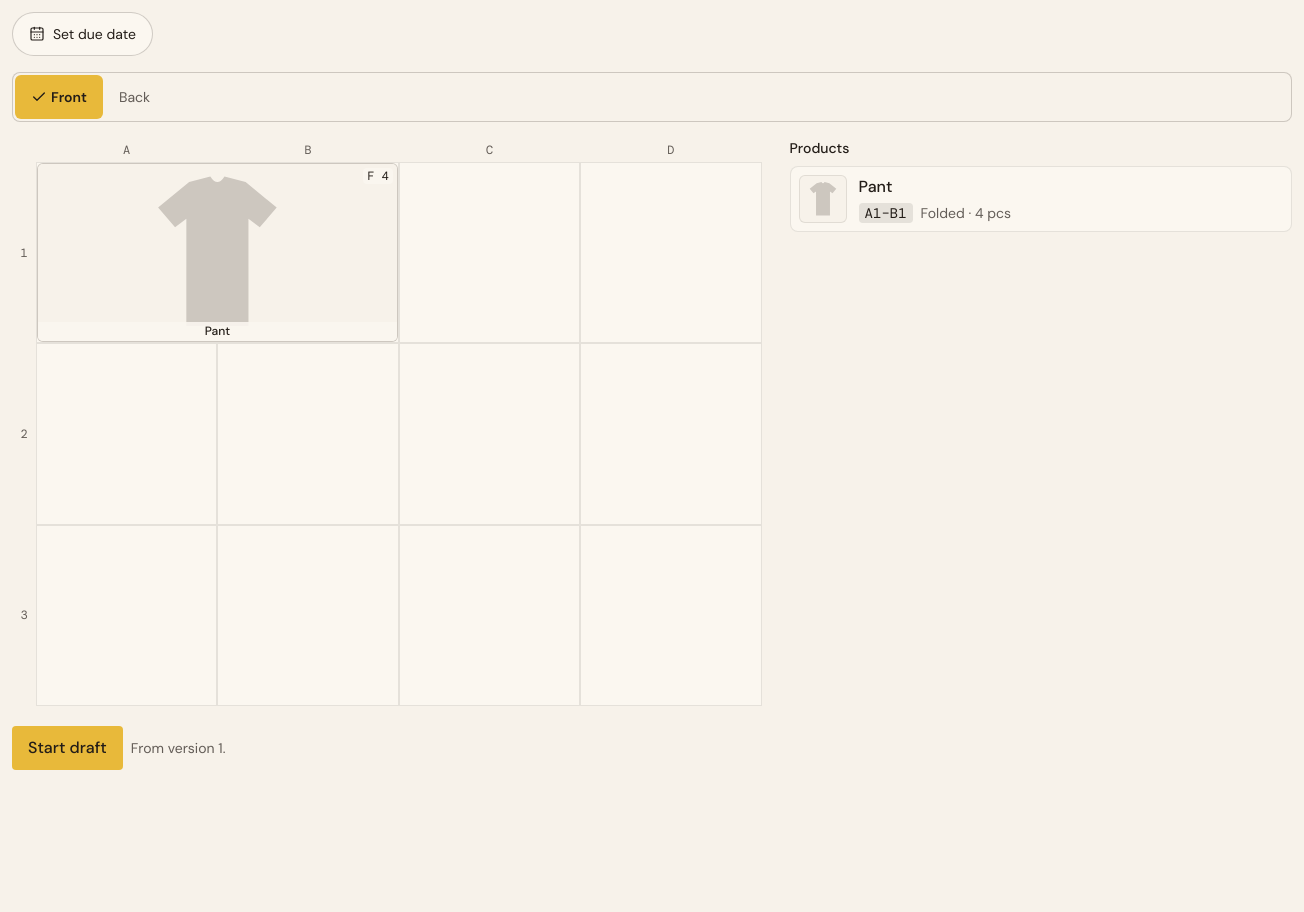
Test: PlanogramScreen › a sideways swipe on the grid shows the next face
The width and height of the screenshot is (1304, 912).
Press the mouse on the element showing "A B C D 1 2 3 F 4 Pant" at x=389, y=424, box [12,138,766,710]
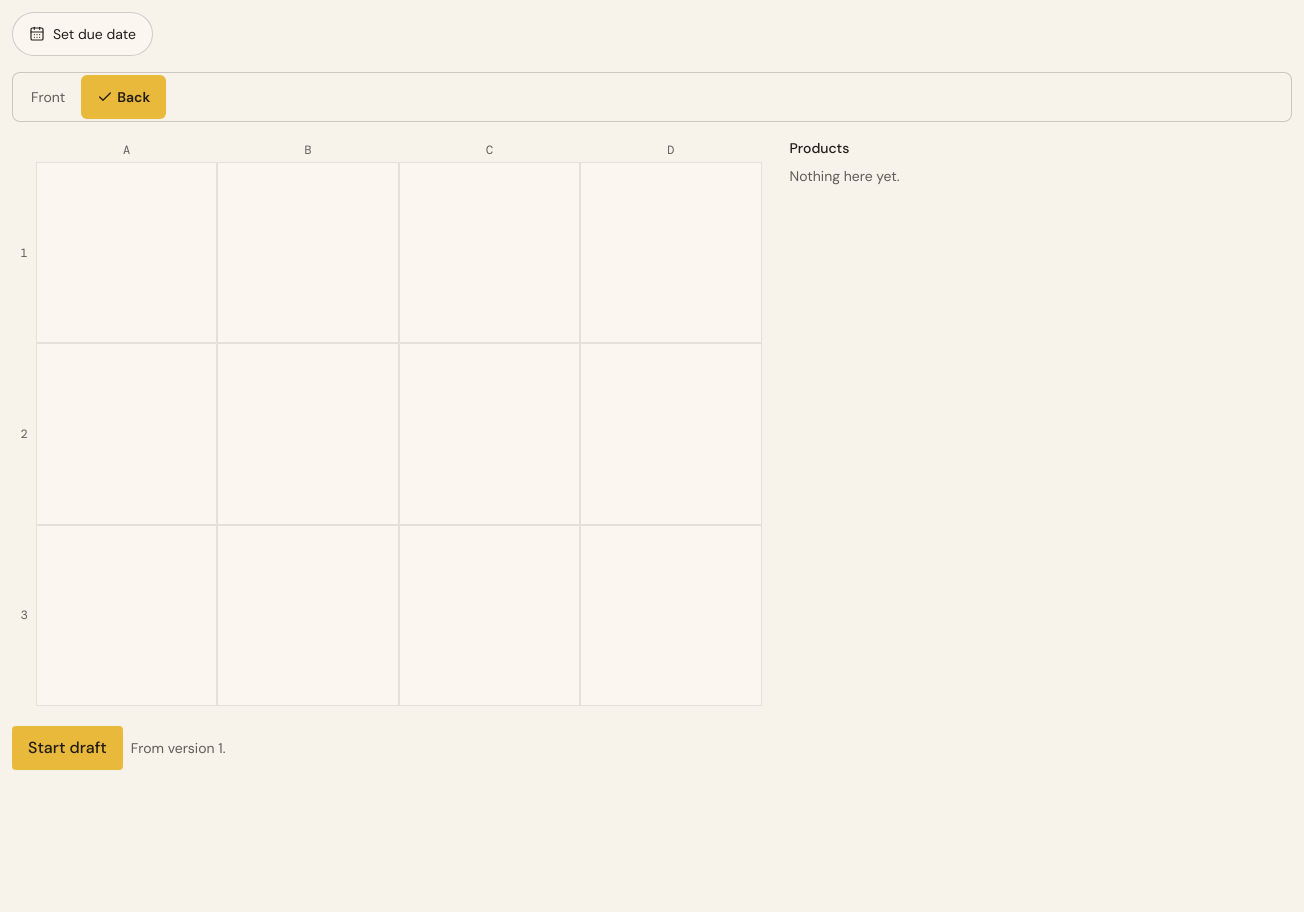
expect the element named ", Back:" is shown: met, box [12,138,766,710]
